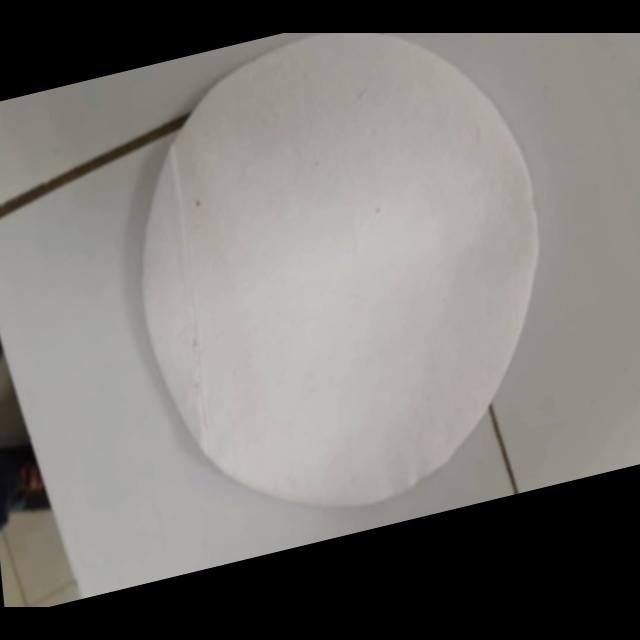Filter paper: (113, 33, 554, 550)
